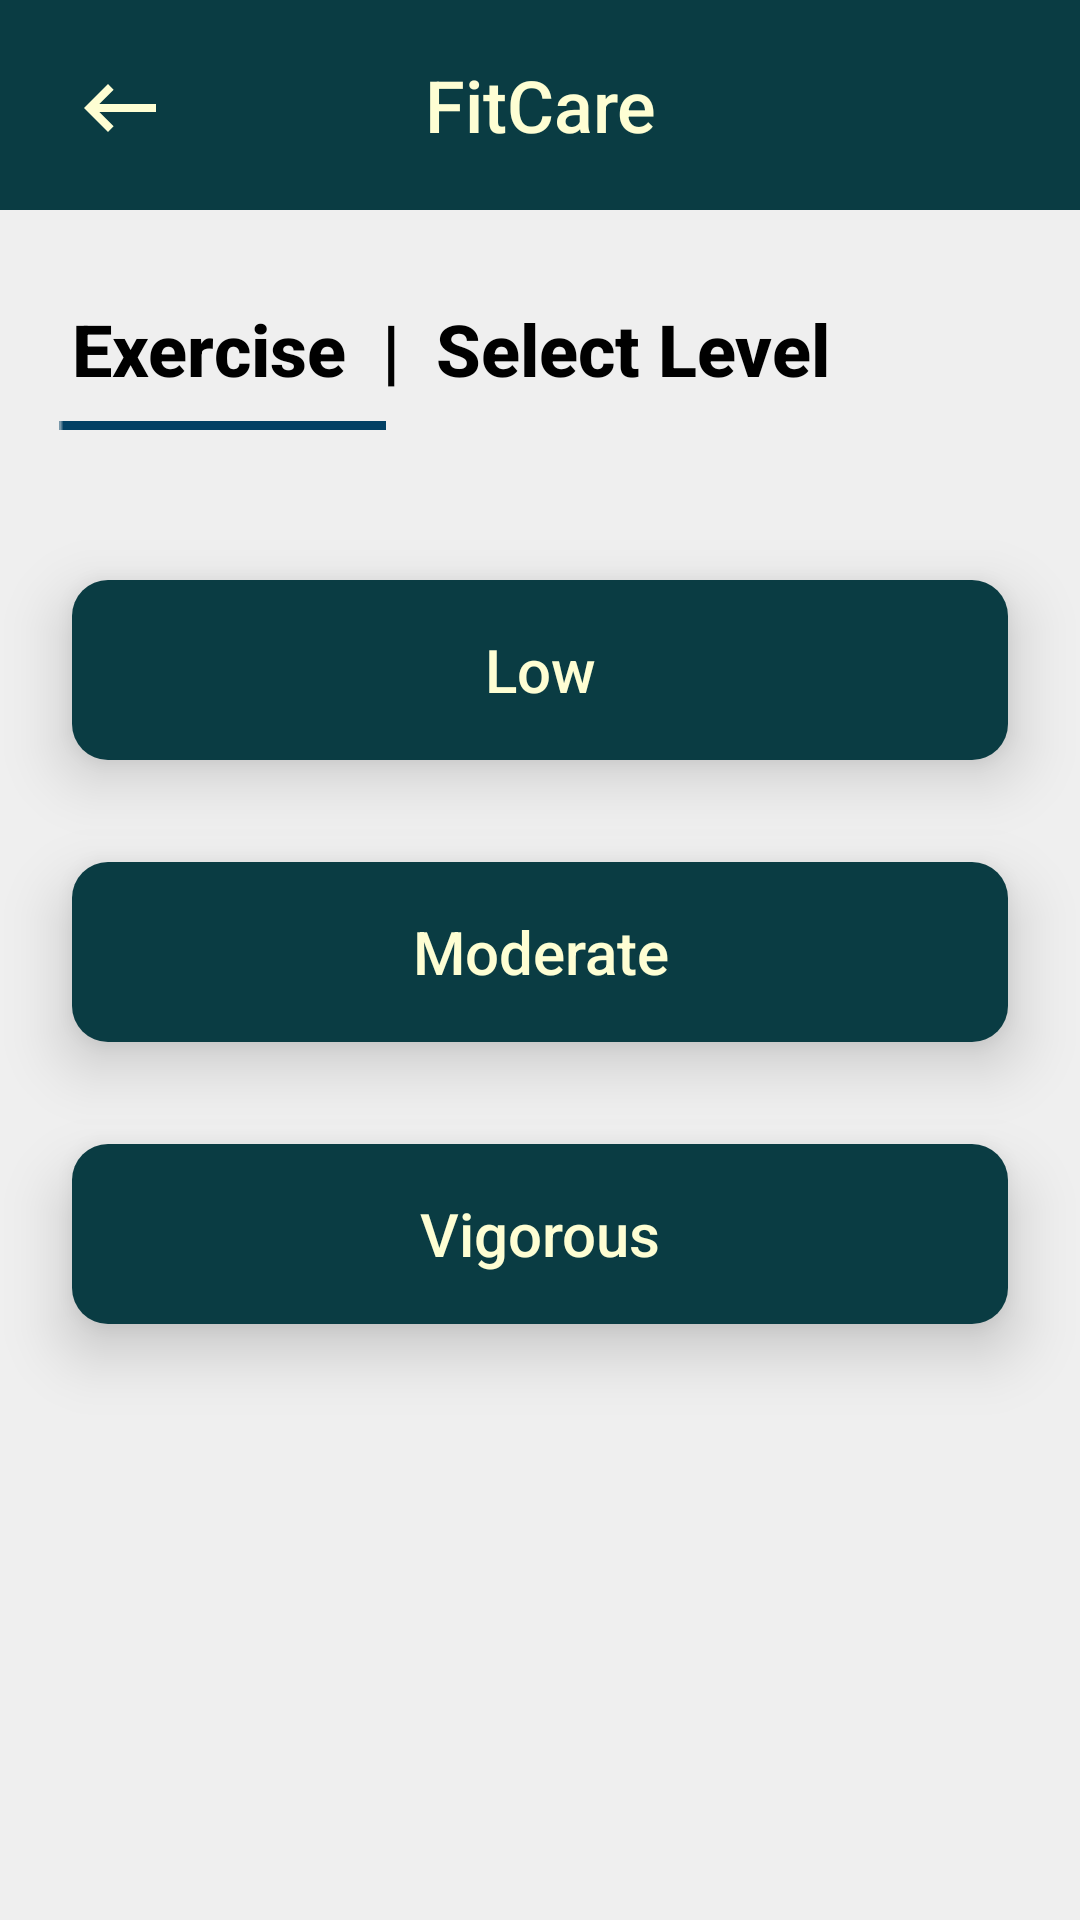

Where icons sit on this 1080px×1920px app screen, as (x1, y1, x2, y2):
back: (84, 84, 156, 132)
